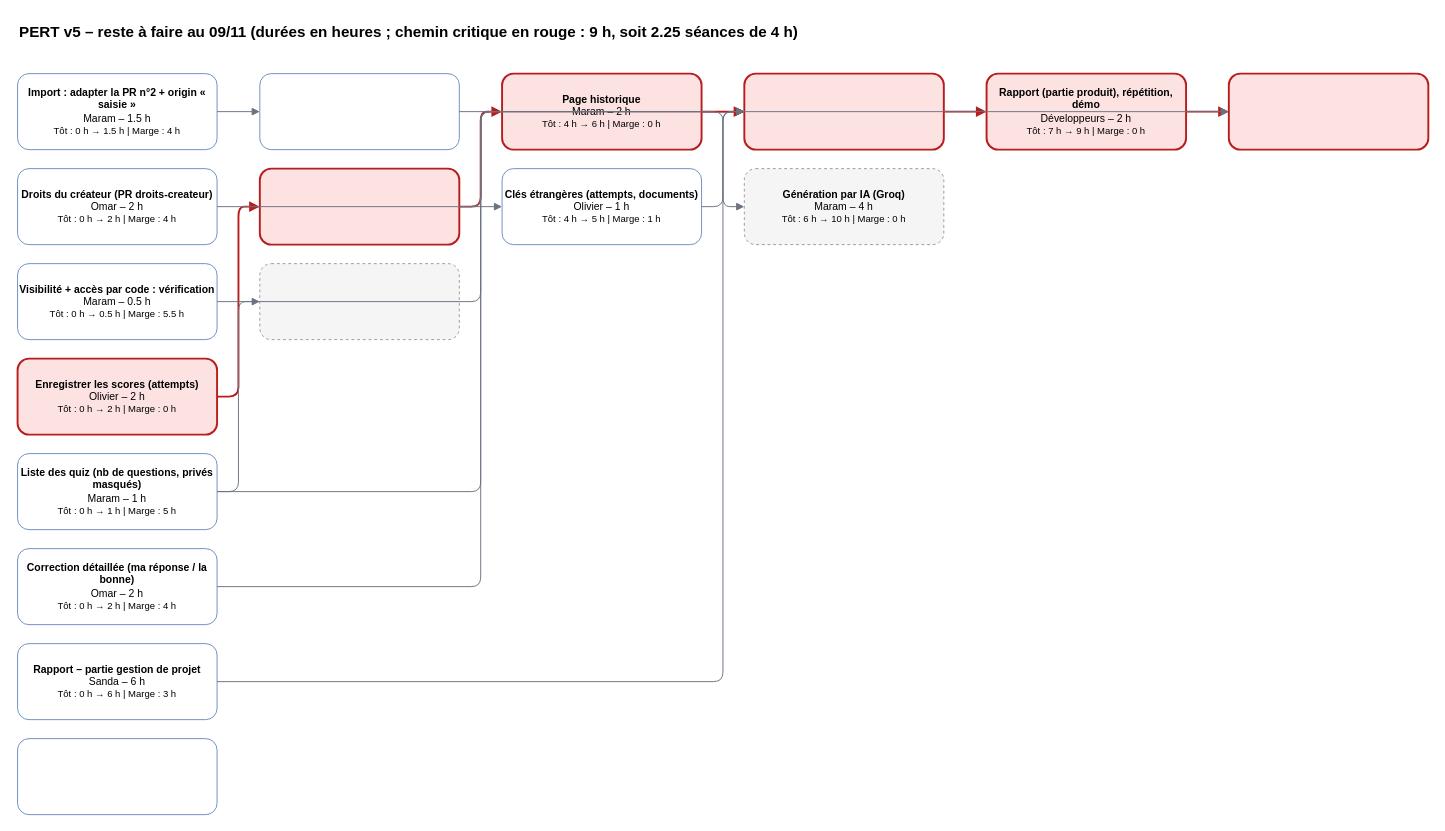
Image size: 1445x831. Some labels were removed from this diagram. Here are the shapes that lost their labels. From the top down, the centre of each, then its label:
the point at 359,111: Import : relecture + fusion Omar – 0.5 h Tôt : 1.5 h → 2 h | Marge : 4 h
the point at 843,111: Tests de chaque module Développeurs – 1 h Tôt : 6 h → 7 h | Marge : 0 h
the point at 1328,111: Démonstration finale Jalon – 23/11 Au plus tôt : 9 h
the point at 359,206: Afficher l'historique Olivier – 2 h Tôt : 2 h → 4 h | Marge : 0 h
the point at 359,301: Export JSON (bonus) Omar – 2 h Tôt : 1 h → 3 h | Marge : 0 h
the point at 117,776: Sécurité : hachage + clé secrète Olivier – 1 h Tôt : 0 h → 1 h | Marge : 8 h
